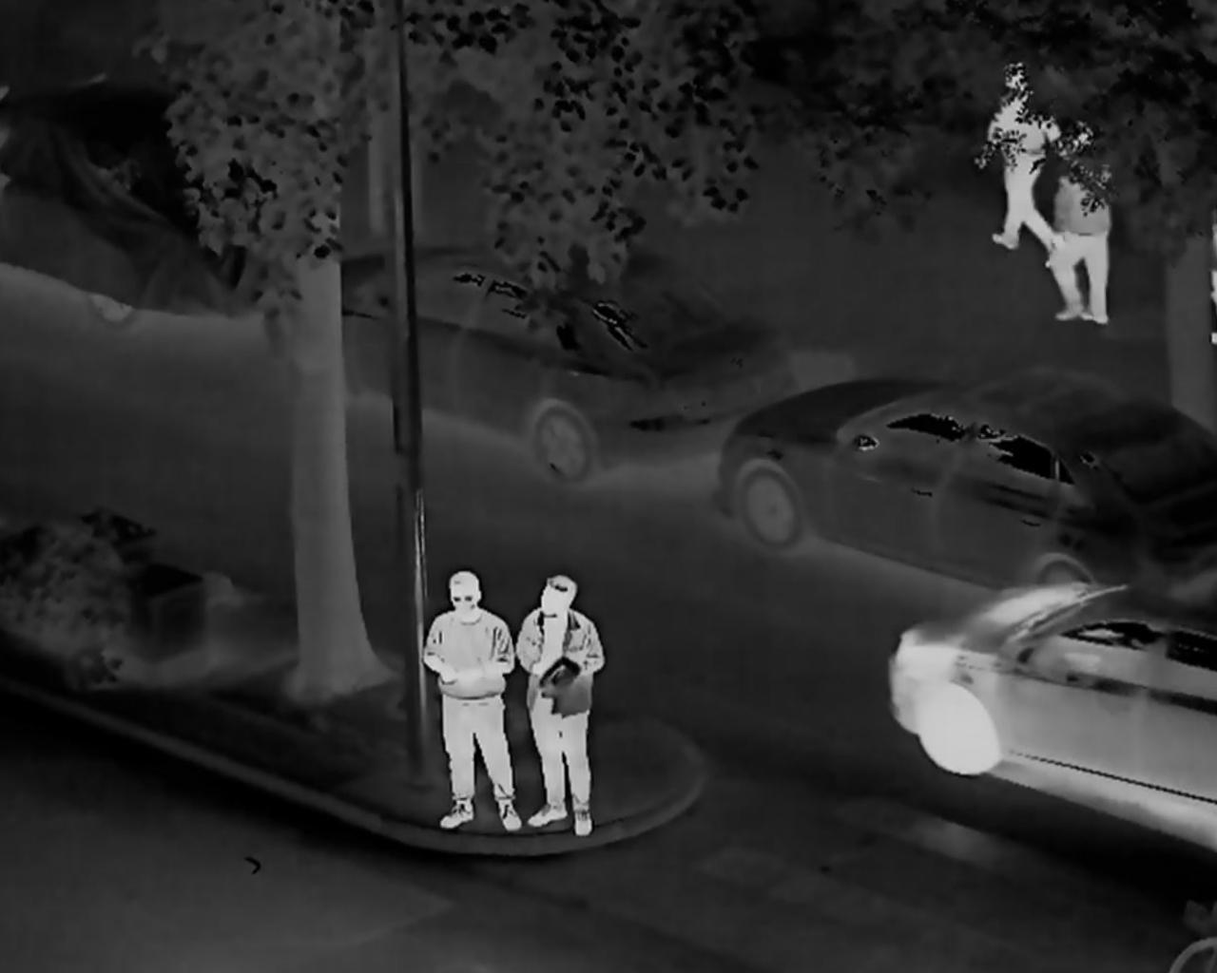person: (410, 568, 530, 835), (515, 572, 599, 840), (979, 62, 1064, 267), (1050, 116, 1119, 330)
